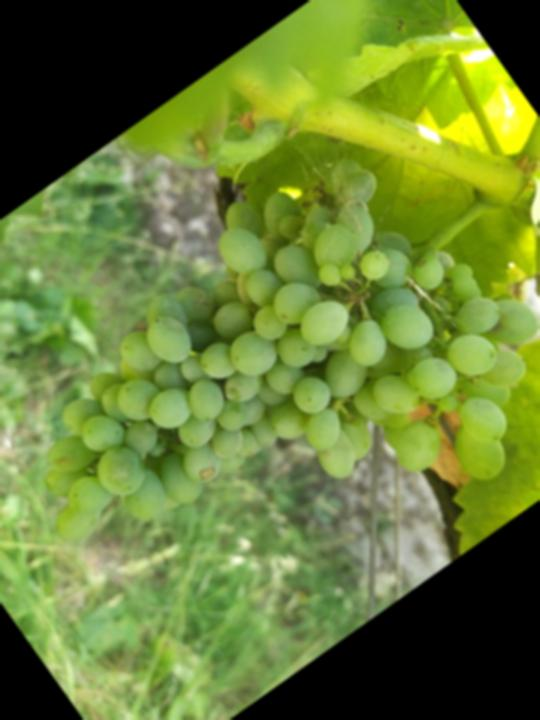grape: (0, 98, 540, 711)
